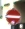No entry: (5, 6, 20, 24)
